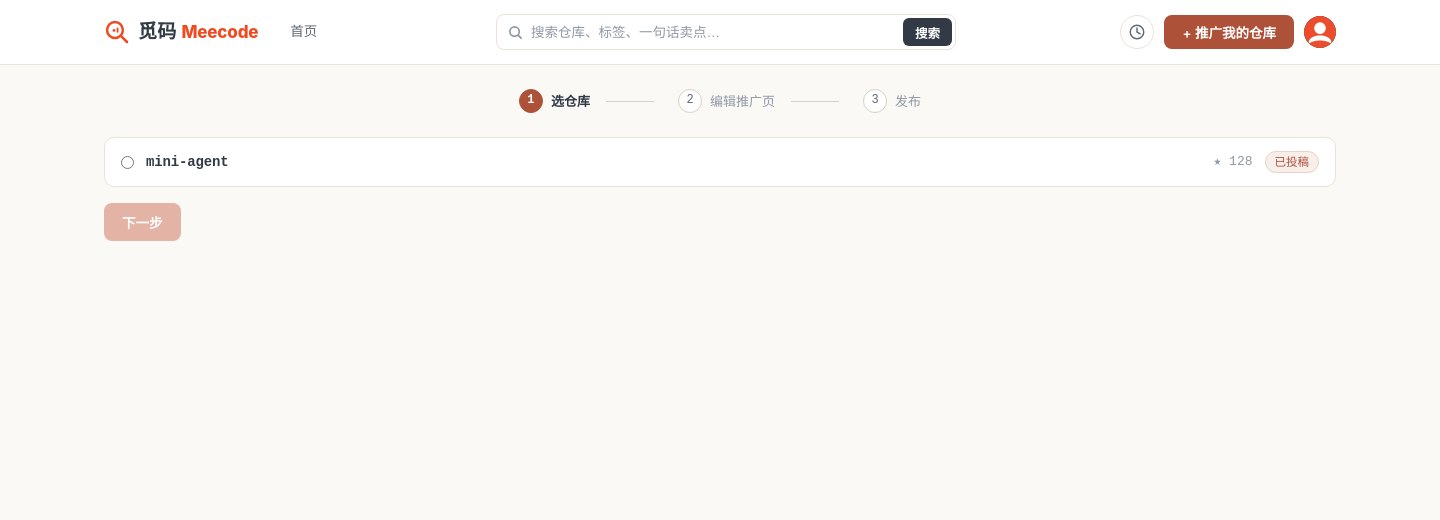
Test case: SubmitPage › 步3 发布成功
Click the radio button labelled "mini-agent ★ 128 已投稿": (128, 162) [121,156,134,169]
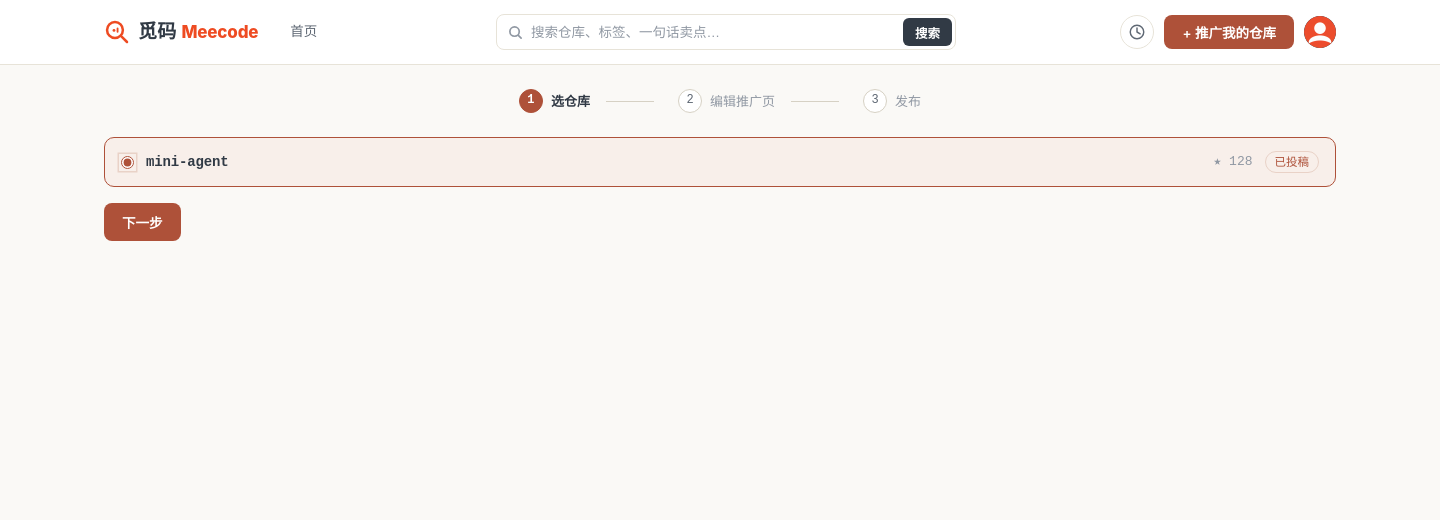
Click the button "下一步": (142, 222) [104,203,180,241]
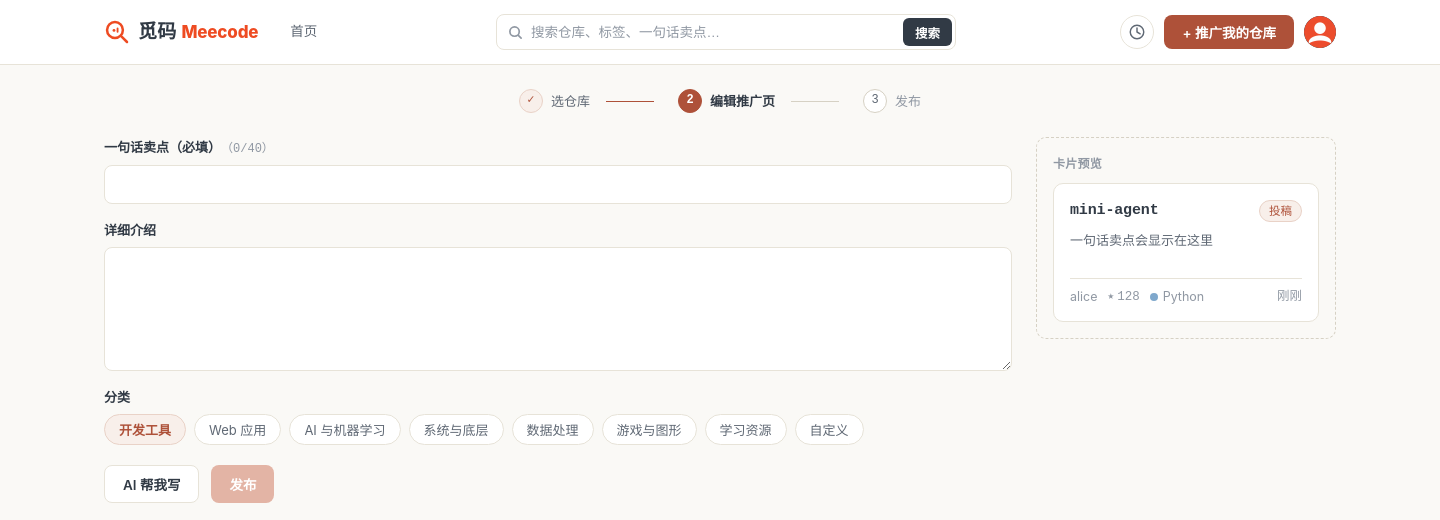
In the field labelled "一句话卖点": (558, 185) [104,165,1012,204], type "手写的一句话卖点"
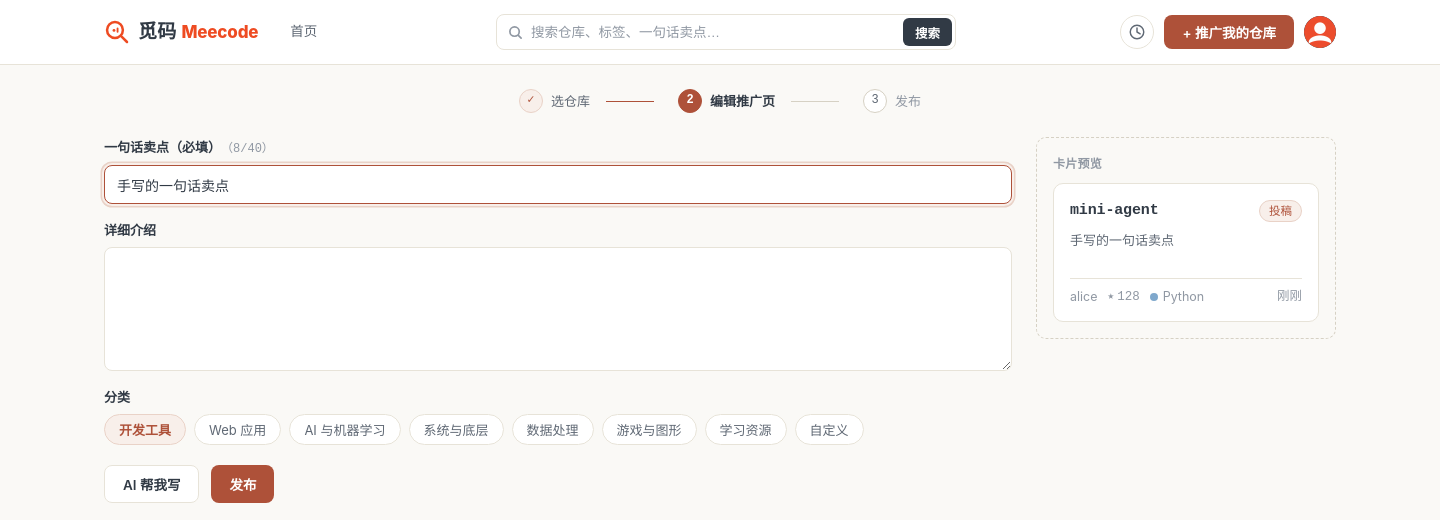
Click the button "发布": (243, 484) [212,465,274,503]
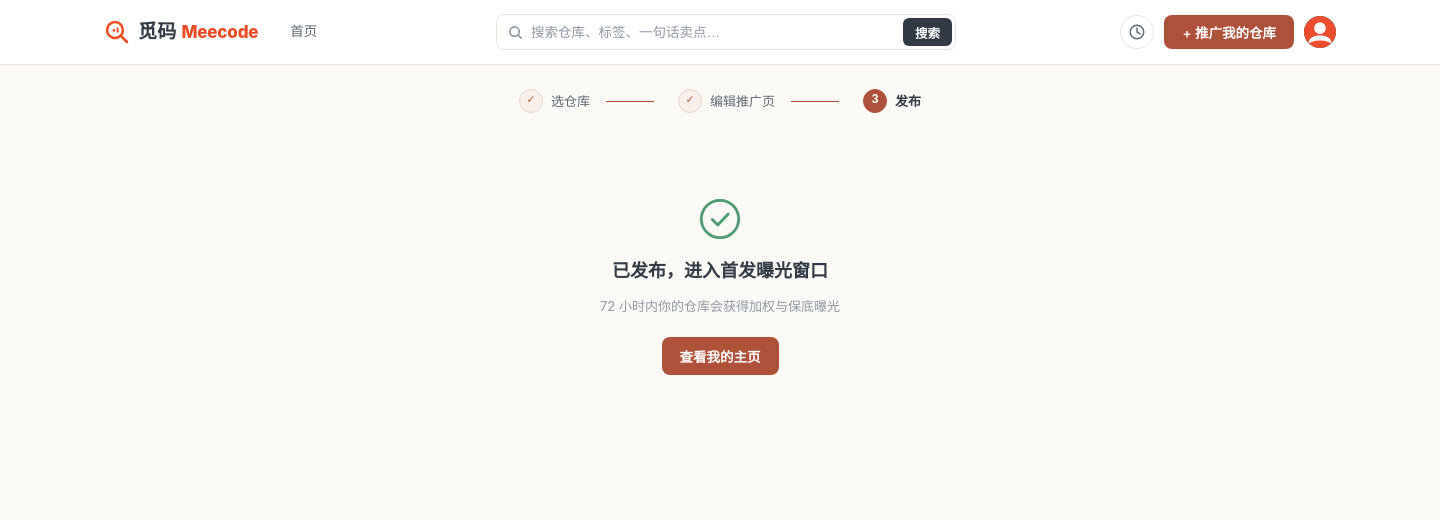
Expected: the text "已发布，进入首发曝光窗口" is shown, [612,257,828,286]
Expected: the button "查看我的主页" is shown, [662,337,778,375]
